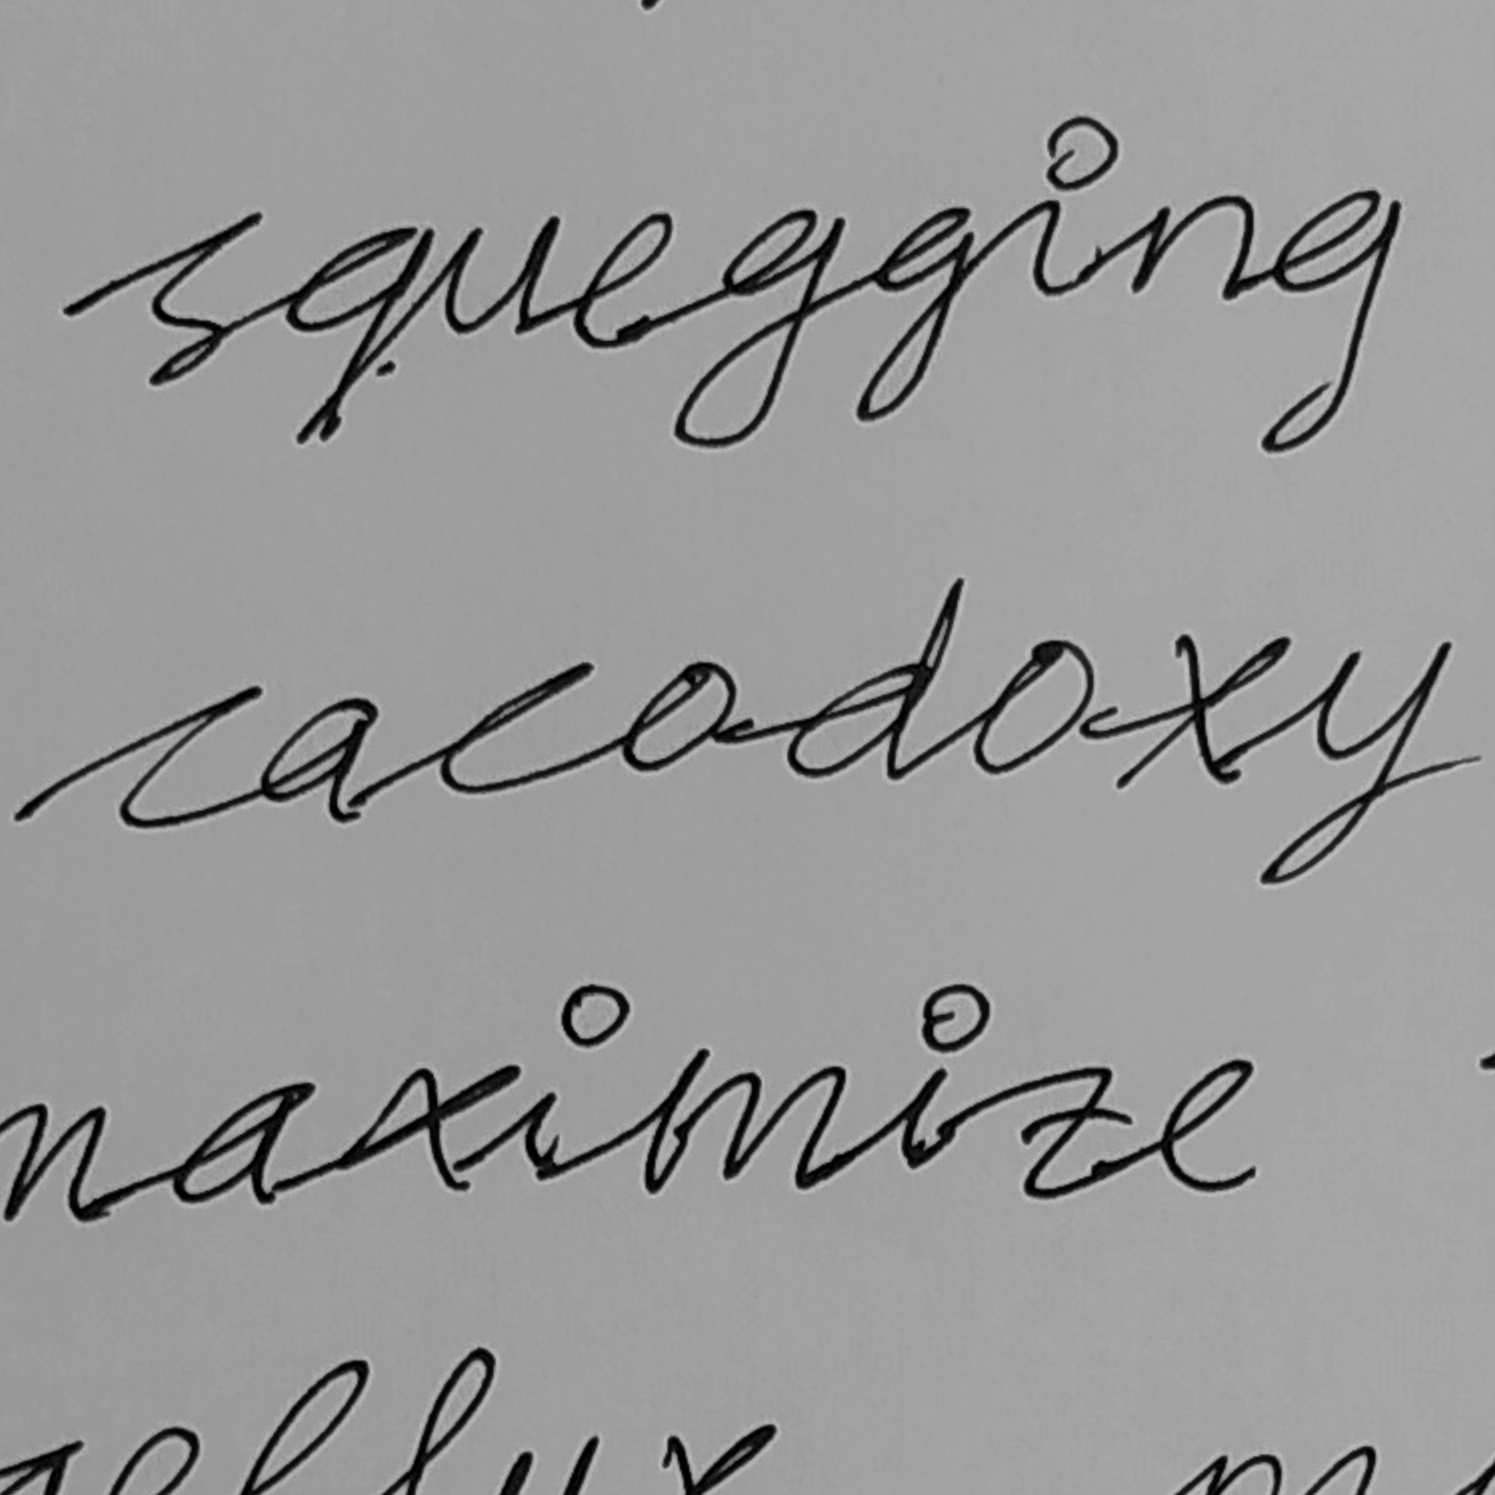a: (256, 694, 386, 826)
c: (114, 680, 266, 831), (439, 659, 600, 797)
d: (782, 574, 967, 787)
o: (969, 632, 1099, 782), (617, 656, 741, 778)
x: (1112, 628, 1292, 794)
y: (1253, 632, 1454, 889)
